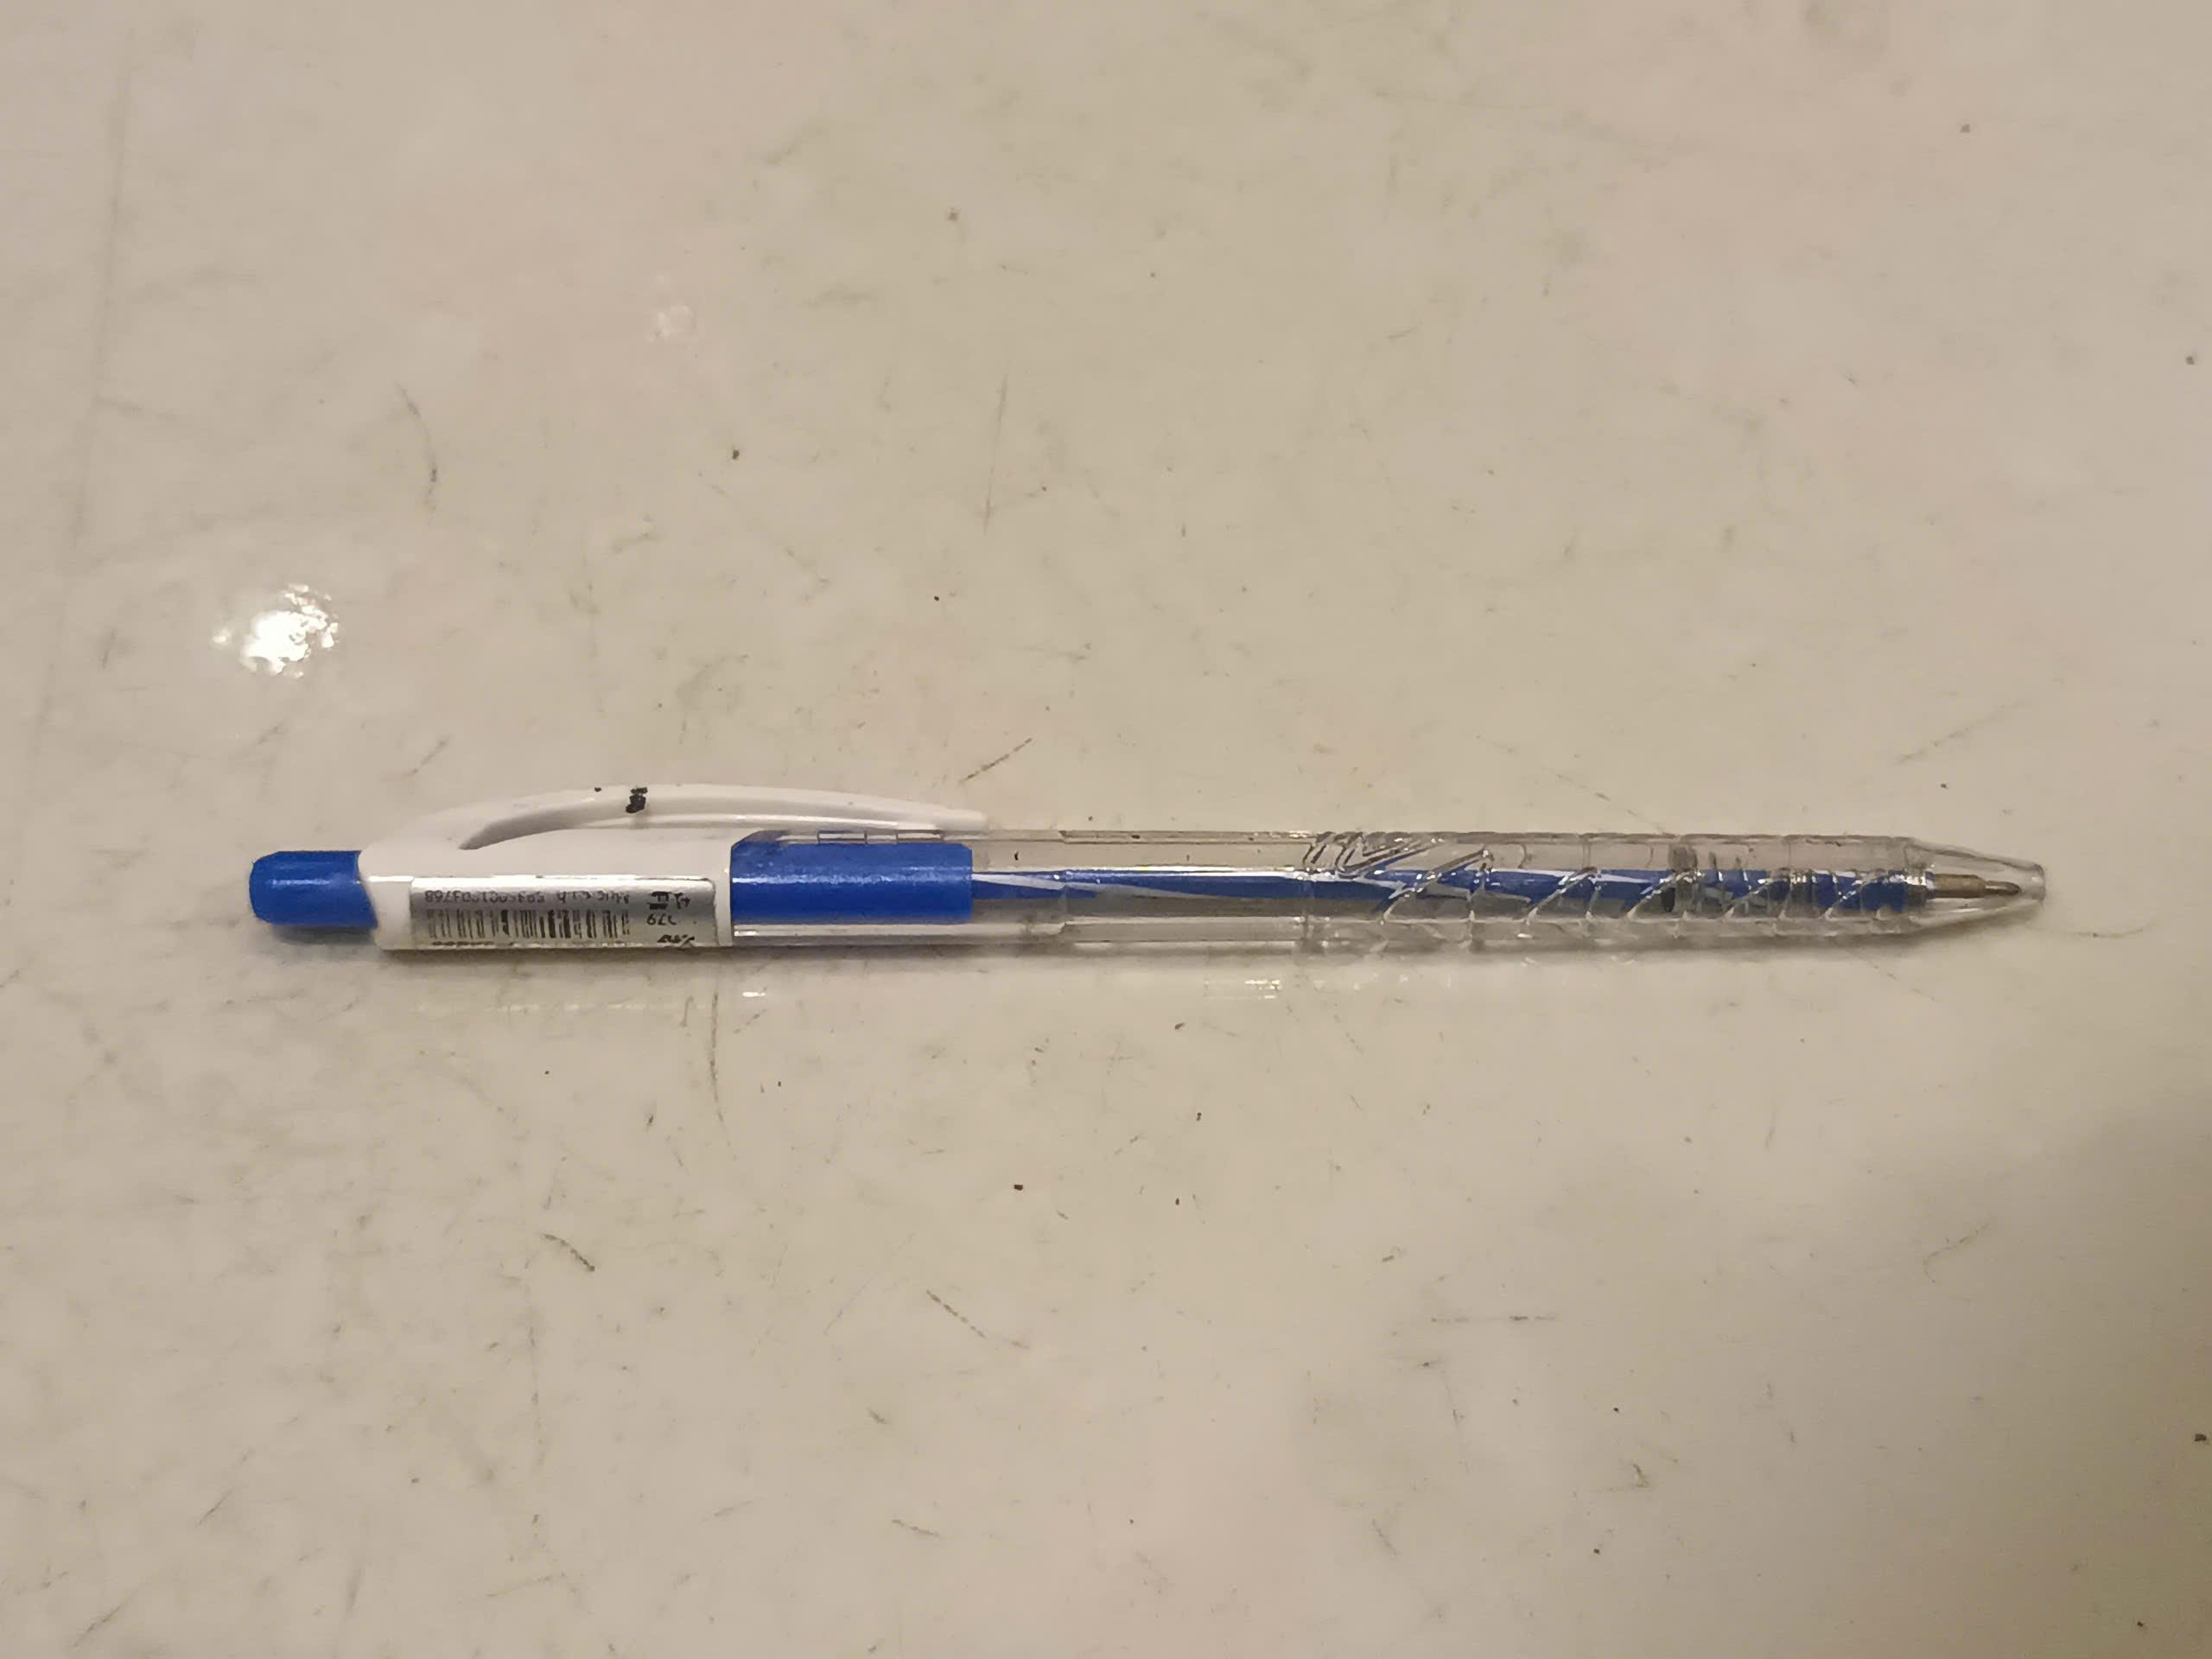Con lai: (247, 788, 2047, 955)
